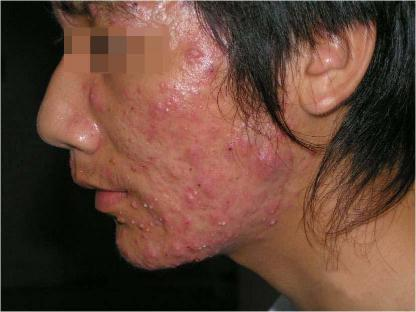Blackheads: (220, 140, 242, 159), (124, 96, 142, 117), (185, 175, 211, 189), (133, 156, 155, 172), (99, 99, 117, 117), (204, 65, 219, 78)
Nodules: (245, 140, 289, 179)
Papules: (180, 39, 210, 67), (127, 200, 139, 212)
pustules: (112, 212, 130, 227), (218, 216, 229, 230), (139, 199, 152, 210), (265, 218, 279, 228), (136, 221, 149, 230), (191, 189, 202, 197), (156, 214, 164, 222), (201, 240, 209, 248), (163, 107, 171, 114), (129, 216, 136, 224), (196, 246, 202, 253)
